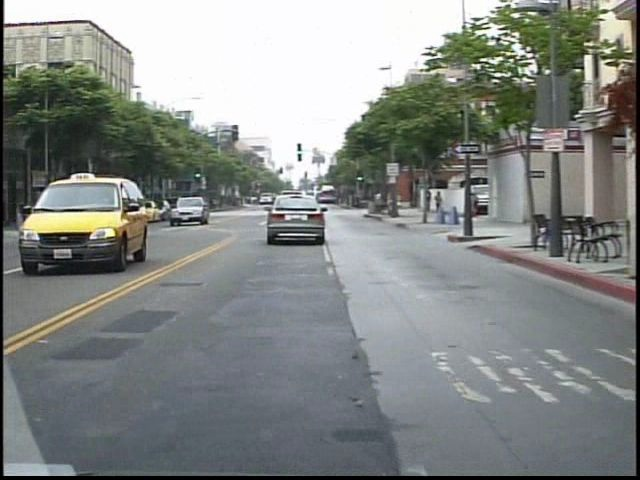person: (407, 181, 422, 222), (360, 187, 378, 217), (424, 185, 439, 220)
